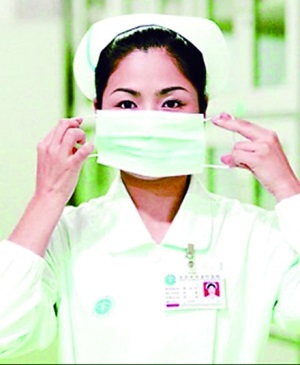face_mask: (100, 43, 201, 178)
